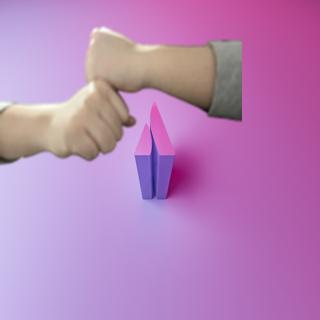CAREFUL: (11, 28, 212, 166)
